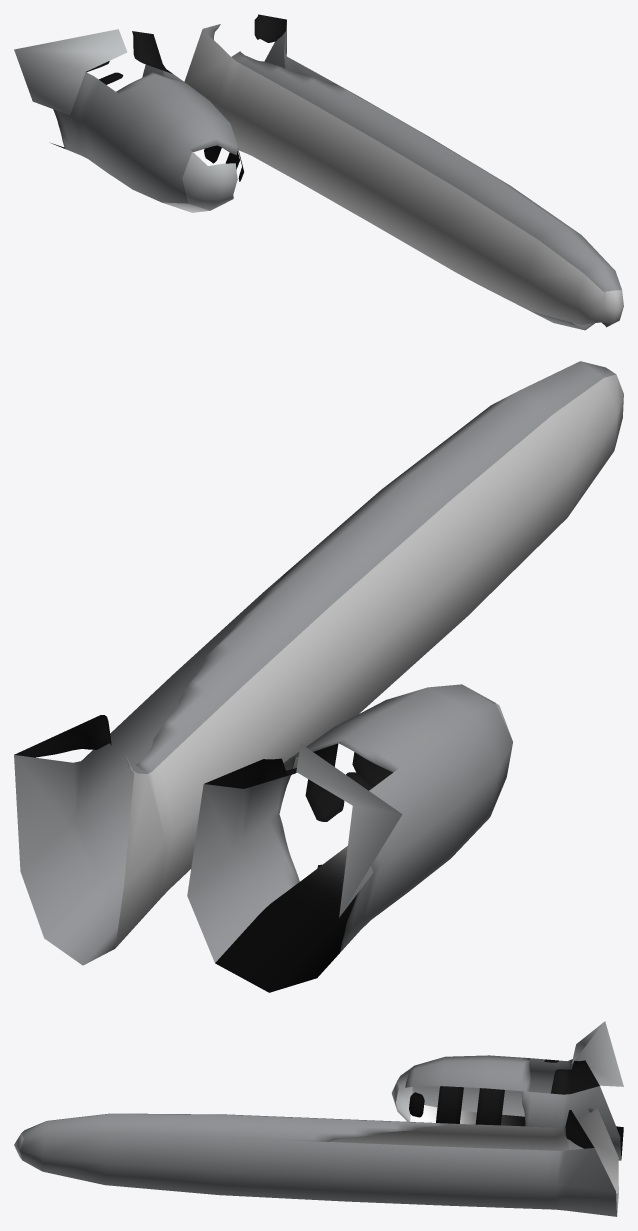
Rendered from TurretRightSpitfirev6.fbx.
3 renders of one model, top to bottom at view 1: azimuth 30°, elevation 25°; view 2: azimuth 150°, elevation 25°; view 3: azimuth 270°, elevation 25°, orthographic. The views are drawn at different scales.
Visible parts, largest first — view 1: gövde.002; view 2: gövde.002; view 3: gövde.002.
Boxes of the visible parts, x1=… form: gövde.002: x1=14, y1=14, x2=623, y2=330; gövde.002: x1=14, y1=361, x2=623, y2=992; gövde.002: x1=14, y1=1021, x2=623, y2=1216.
Bounding box in the file's own units: 138 × 78.32 × 344.
